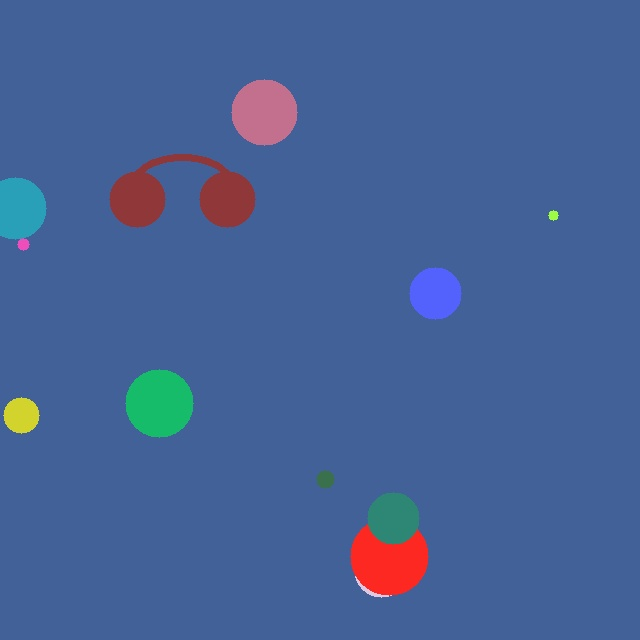over_ear: (105, 141, 259, 231)
